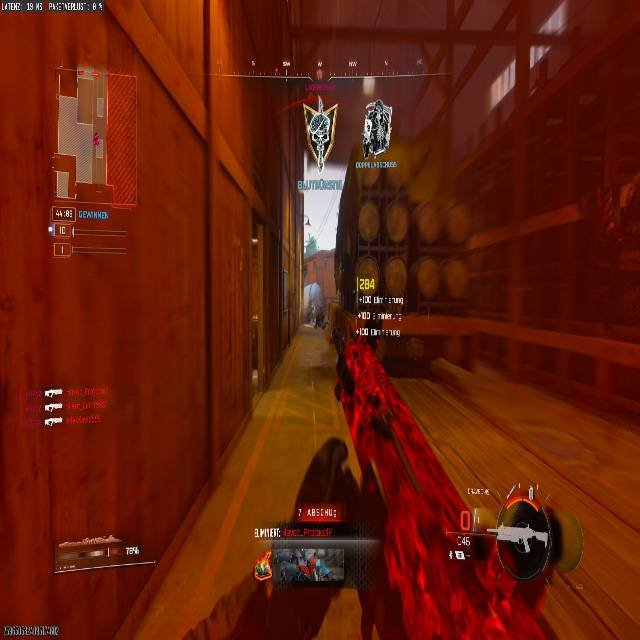player: (311, 301, 325, 329)
